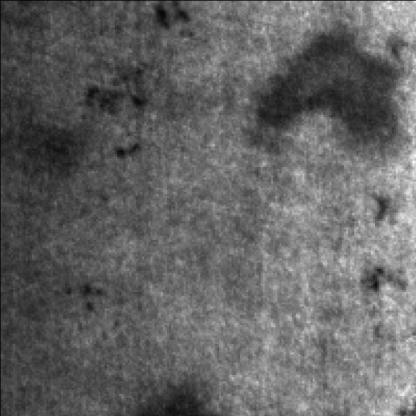patches: (247, 29, 398, 156)
